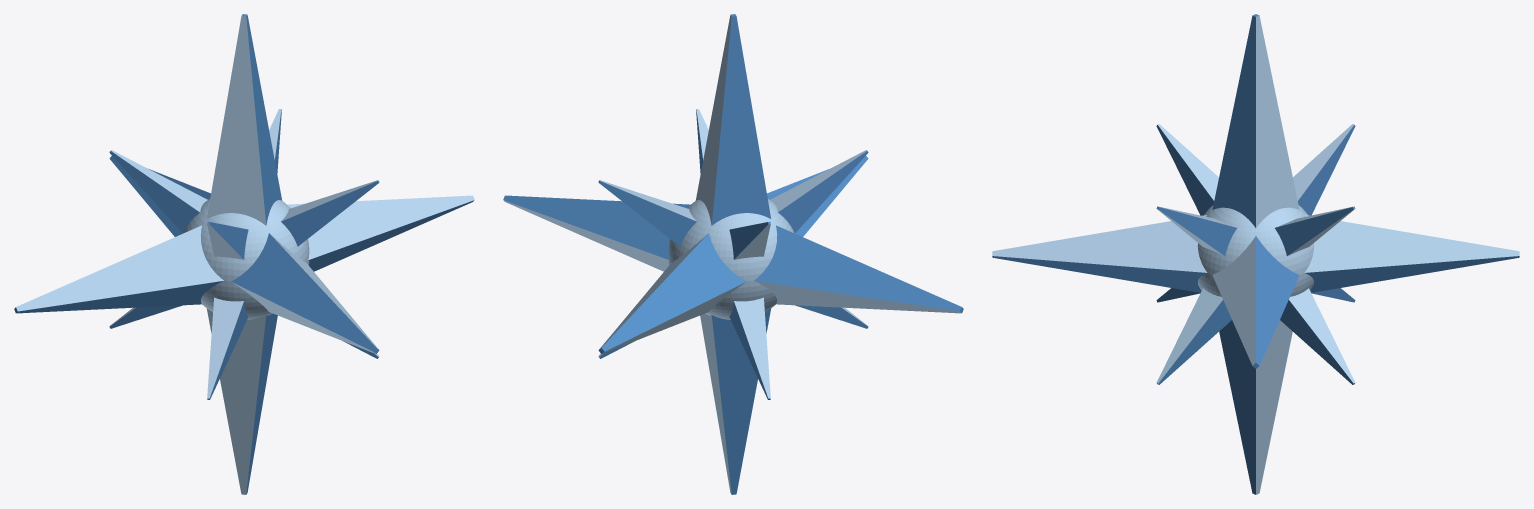
File: polaris.glb
3 views of the same model, side by side, from view 1: azimuth 30°, elevation 25°; view 2: azimuth 150°, elevation 25°; view 3: azimuth 270°, elevation 25° (orthographic).
Parts seen in each view (by area): view 1: Plane.015, Plane.016, Plane.013, Plane.014, Sphere.004; view 2: Plane.015, Plane.016, Plane.013, Plane.014, Sphere.004; view 3: Plane.014, Plane.016, Plane.013, Plane.015, Sphere.004.
Part boxes in pixels (box(x1,y1,x2,y2)): Plane.015: box(14, 195, 474, 313); Plane.016: box(206, 14, 282, 494); Plane.013: box(109, 109, 379, 399); Plane.014: box(109, 156, 379, 354); Sphere.004: box(182, 199, 309, 319); Plane.015: box(503, 195, 963, 313); Plane.016: box(695, 14, 771, 494); Plane.013: box(598, 109, 868, 399); Plane.014: box(598, 156, 868, 354); Sphere.004: box(668, 199, 795, 319); Plane.014: box(992, 215, 1519, 292); Plane.016: box(1212, 14, 1299, 494); Plane.013: box(1156, 124, 1355, 384); Plane.015: box(1212, 236, 1299, 368); Sphere.004: box(1197, 205, 1314, 296).
Size of the model in its own units: 4.02 by 4.02 by 4.02.
